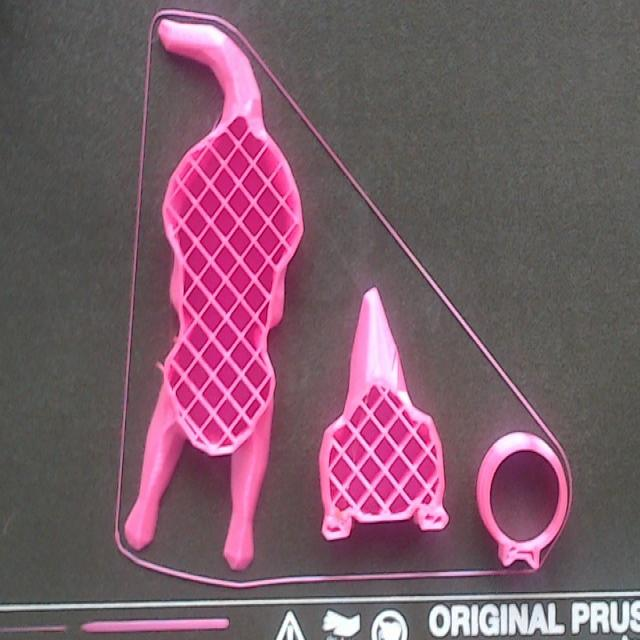mistake: (155, 360, 164, 375)
